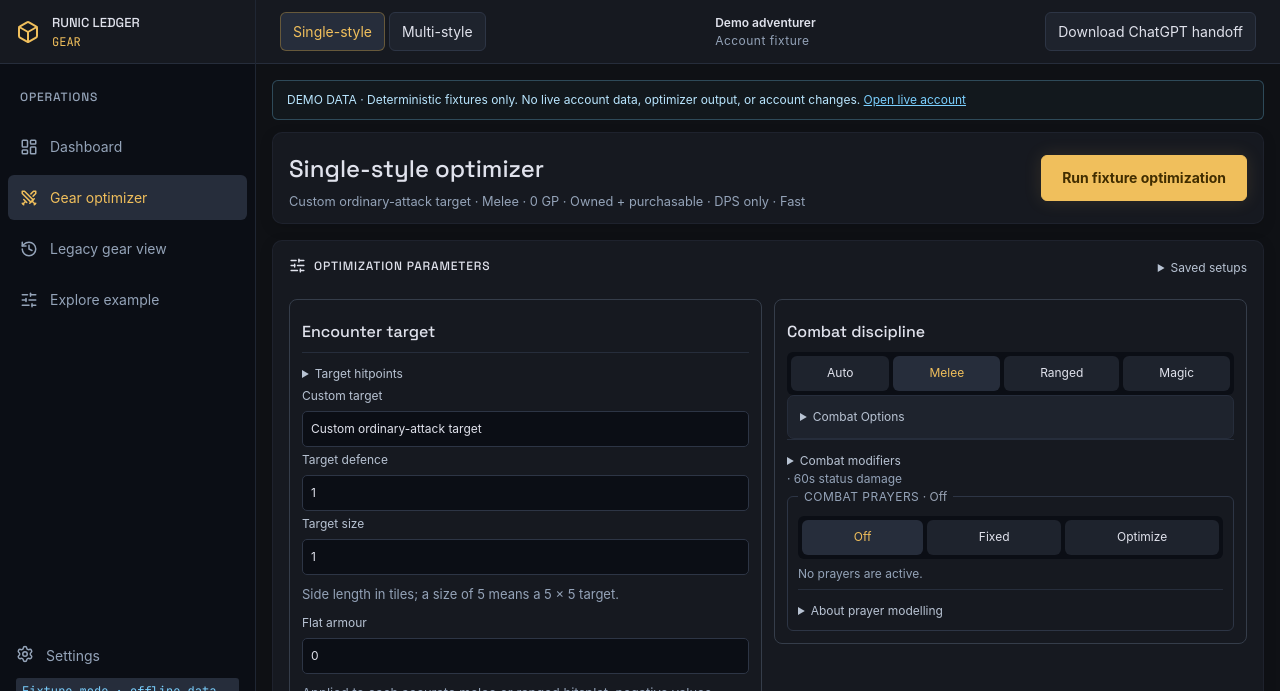
Test: discards delayed fixture evaluations after close and accepts the next preview
This screenshot has width=1280, height=691.
Click the button "Run fixture optimization": (1144, 178) [1041, 155, 1247, 201]
(page scrolled)
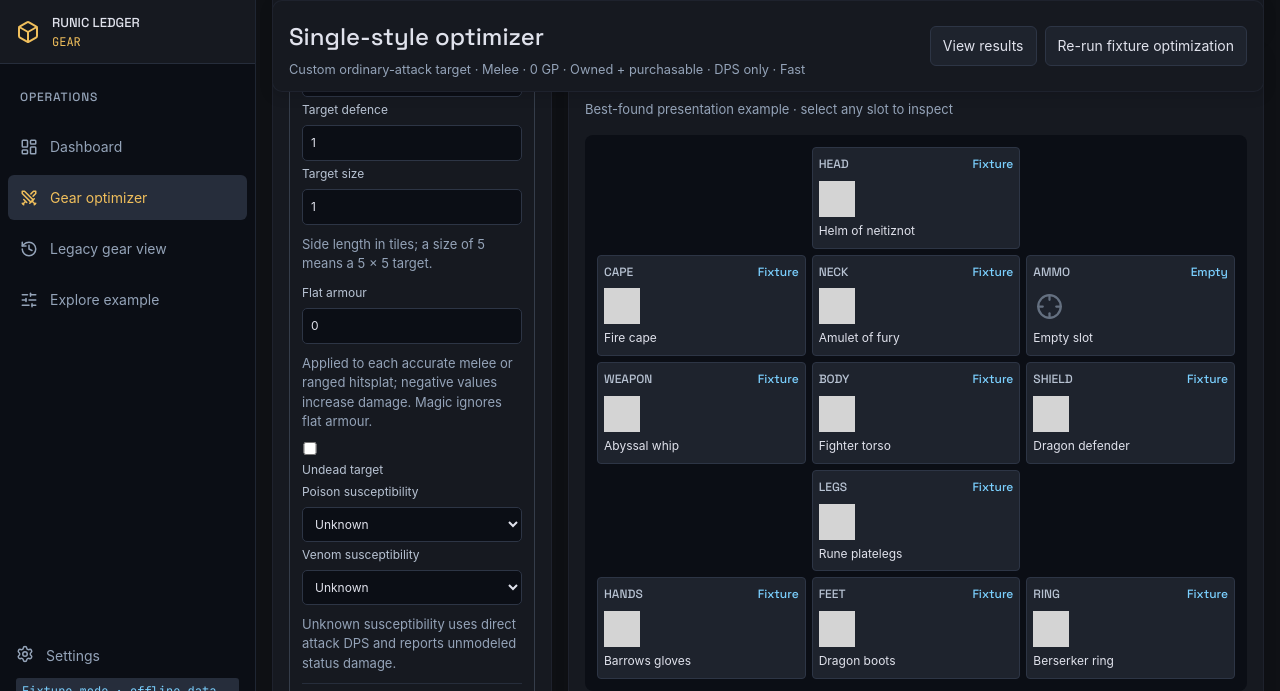
Click the button "weapon Fixture Abyssal whip": (701, 413) [597, 362, 806, 464]
(page scrolled)
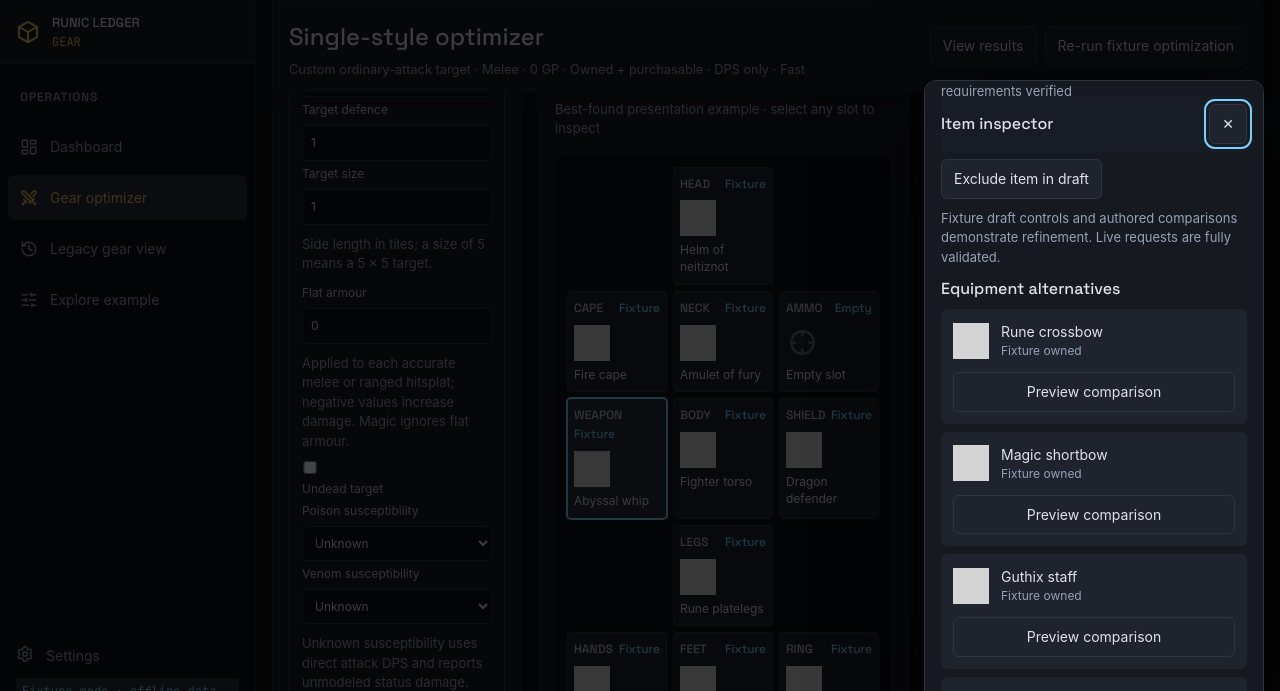
Click the button "Preview comparison" below "Rune crossbow": (1094, 392) [953, 372, 1235, 412]
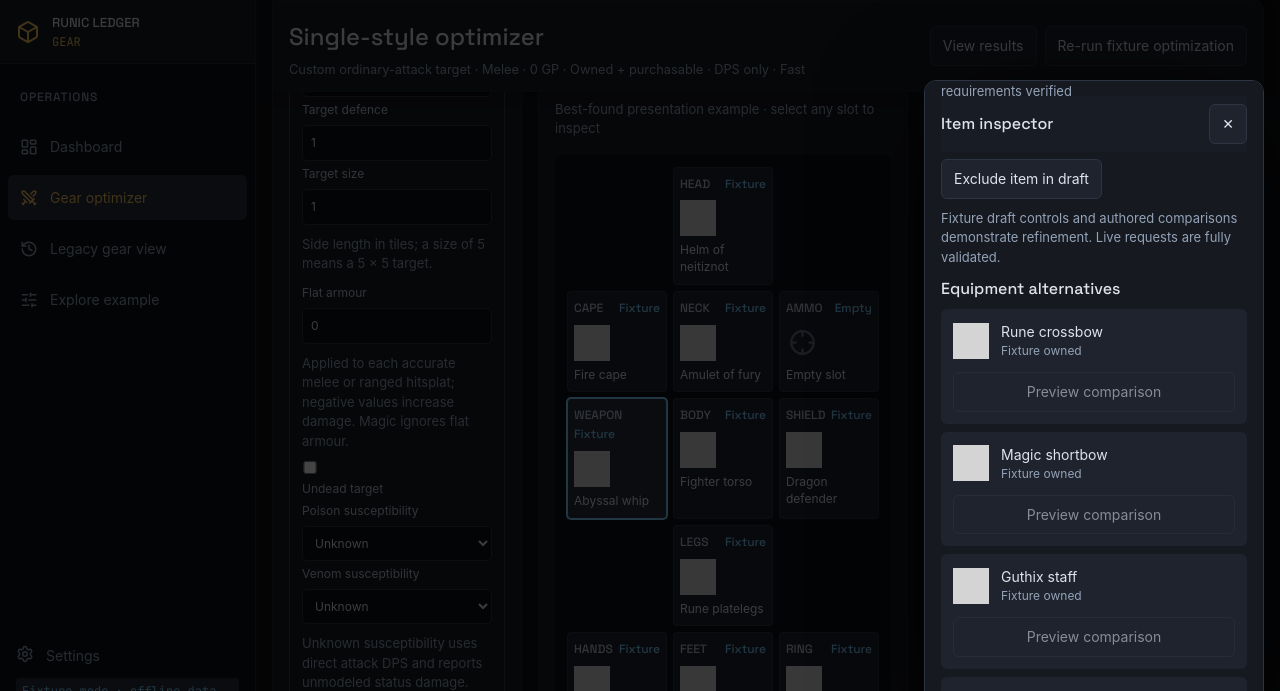
Click the button named "Close Item inspector": (1228, 124) [1209, 104, 1247, 144]
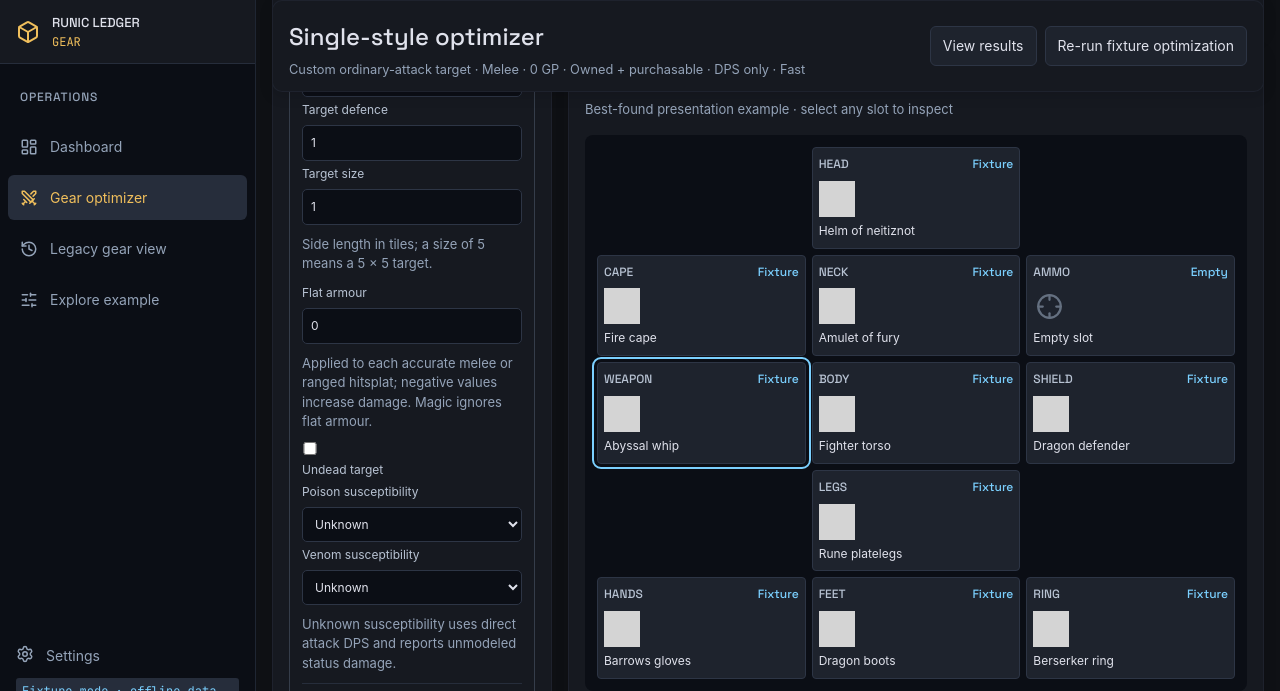
Click the button "shield Fixture Dragon defender": (1131, 413) [1026, 362, 1235, 464]
(page scrolled)
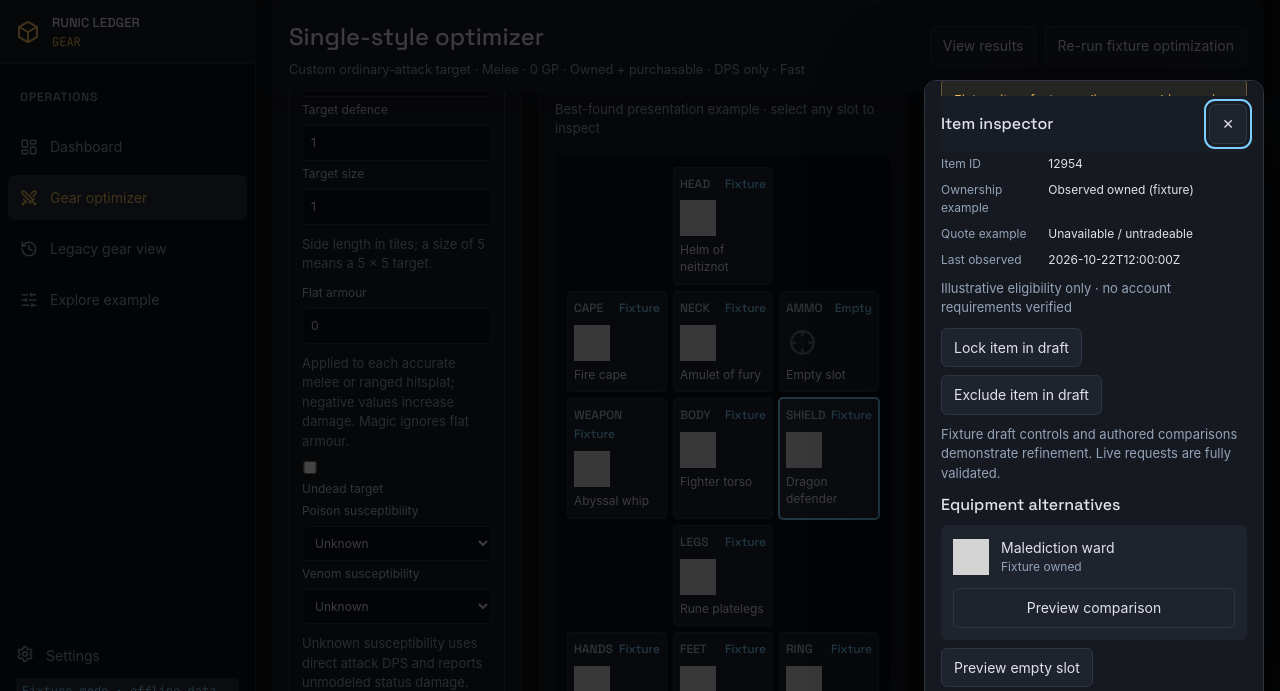
expect the text "Manual trial · fixture preview" is not shown: met
Click the button "Preview comparison": (1094, 608) [953, 588, 1235, 628]
(page scrolled)
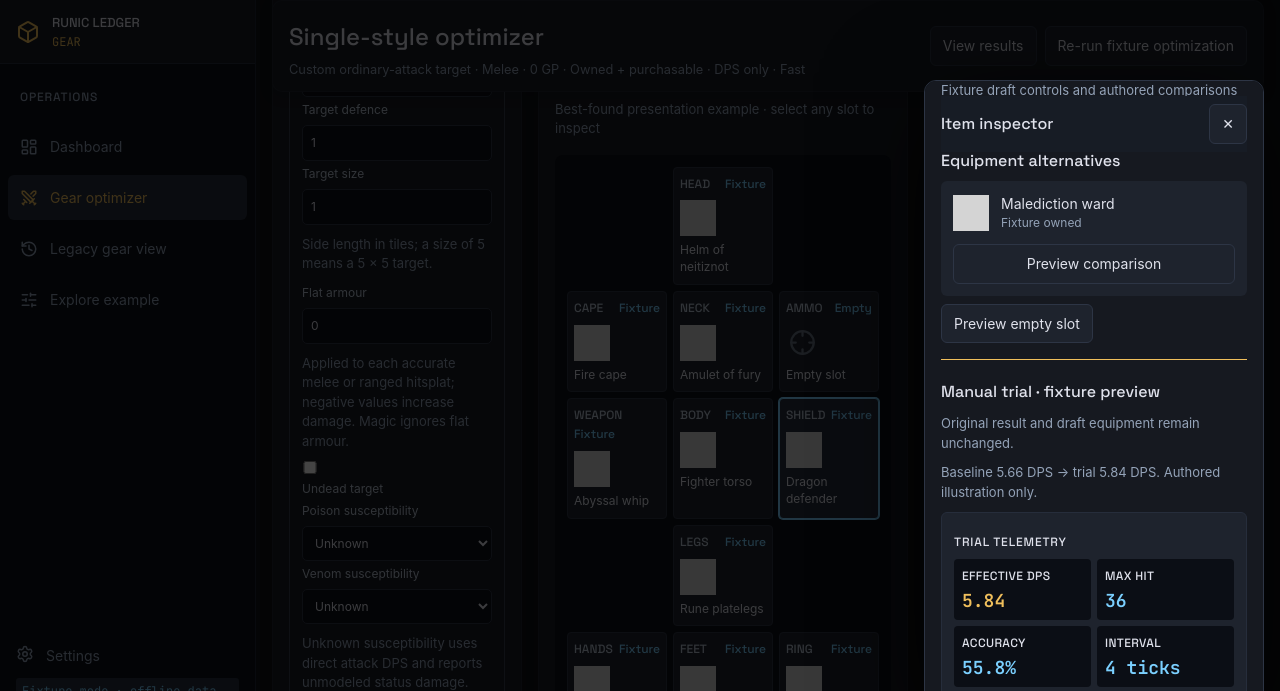
expect the heading "Manual trial · fixture preview" is shown: met, box [941, 382, 1160, 402]
